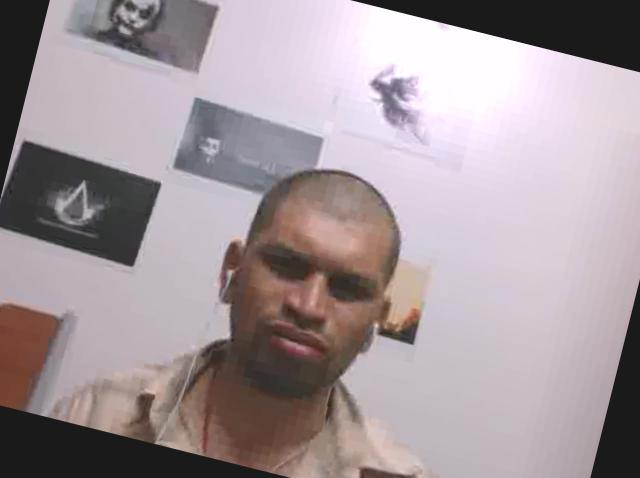bingung: (222, 187, 408, 400)
